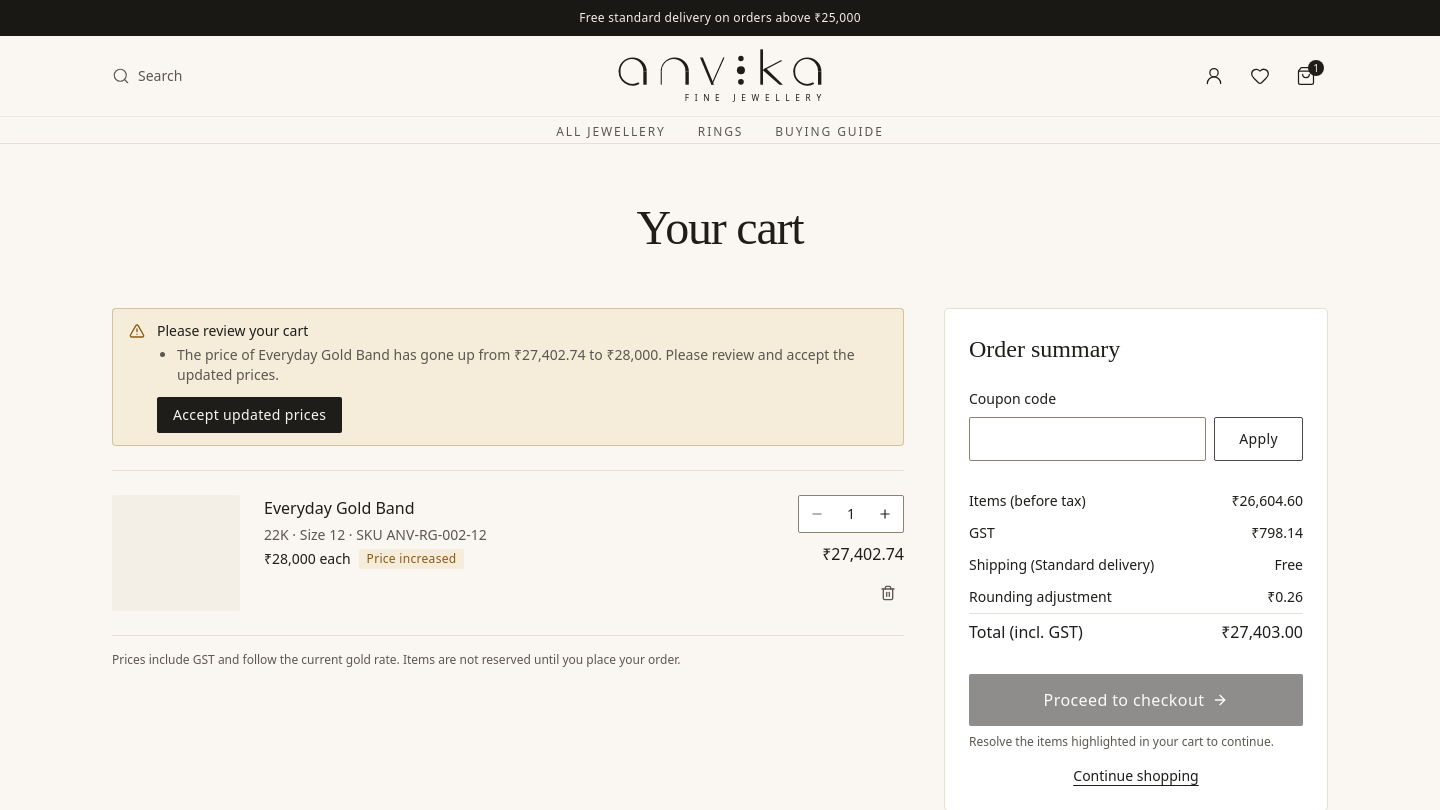
Test: cart page › asks the customer to accept a price increase
Expected: the text "Price increased" is shown, [359,549,464,569]
Expected: the list item "has gone up" is shown, [177,345,855,384]
Click the button "Accept updated prices": (250, 415) [157,397,342,433]
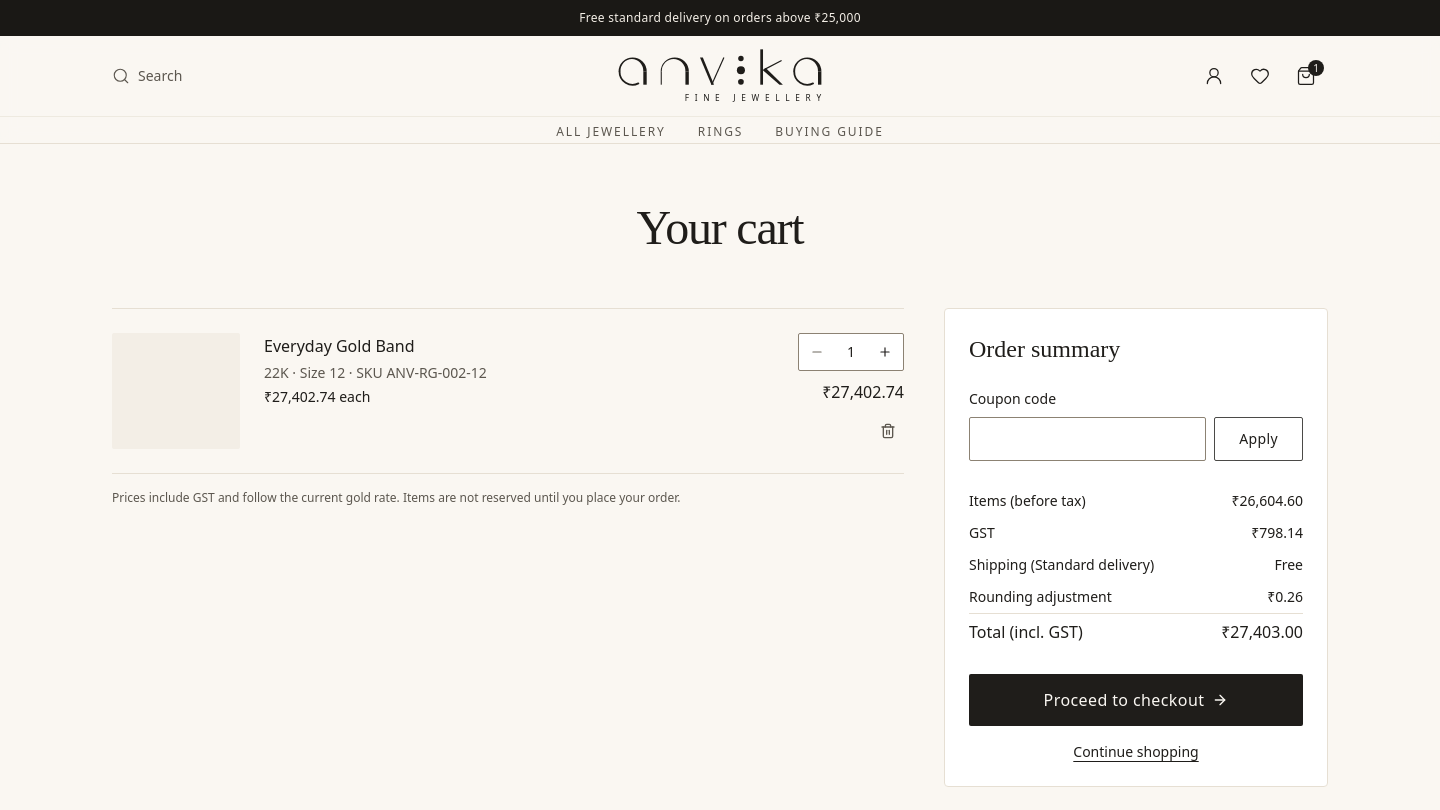
Expected: the text "Price increased" is gone
